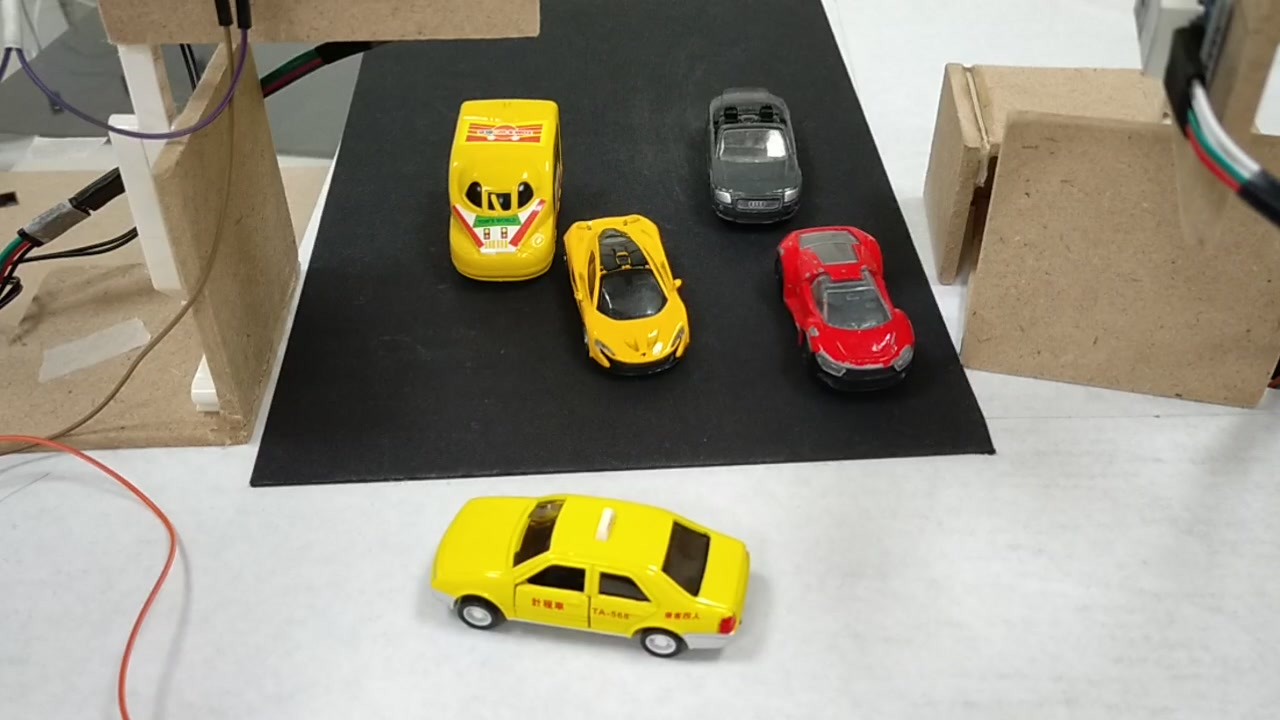car: (432, 497, 756, 672), (765, 225, 921, 389), (559, 210, 689, 379), (699, 90, 806, 231)
